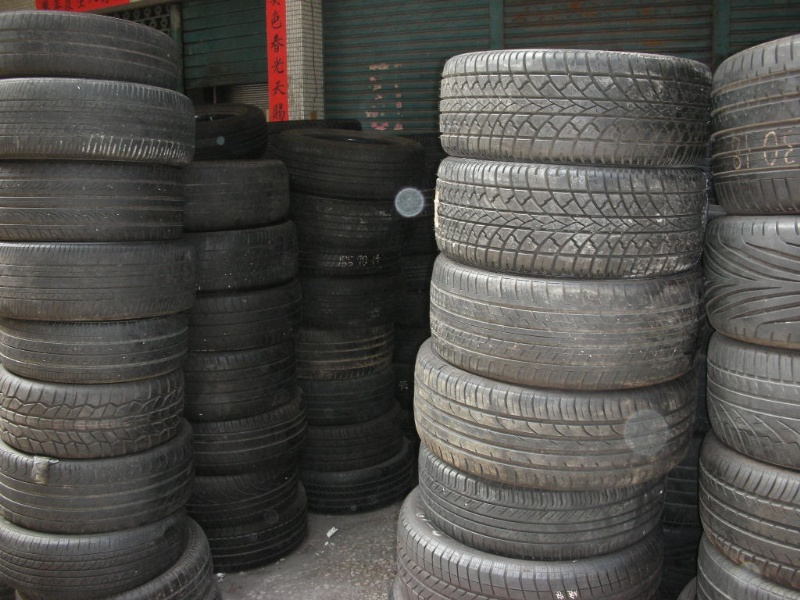tire: (413, 333, 699, 493), (427, 251, 702, 393), (417, 438, 702, 564), (433, 154, 709, 282), (438, 48, 715, 165), (1, 413, 197, 538), (1, 363, 188, 462), (1, 76, 197, 169), (1, 507, 186, 599), (1, 241, 194, 325), (1, 157, 187, 244), (1, 8, 181, 92), (1, 311, 189, 388), (269, 126, 427, 203), (189, 381, 308, 479), (190, 217, 303, 296), (188, 342, 297, 422), (187, 277, 301, 352), (184, 155, 294, 230)
